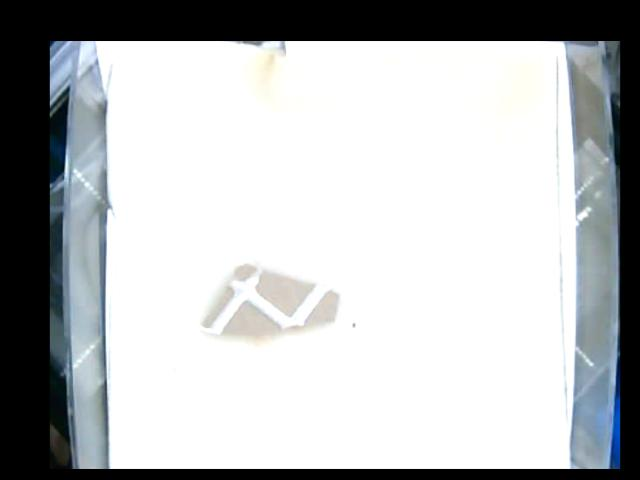China: (199, 263, 340, 340)
